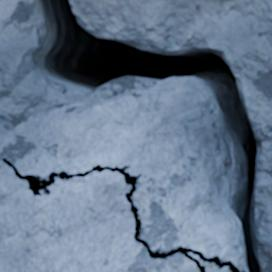brick: (0, 78, 246, 270), (0, 160, 198, 271), (200, 260, 229, 271)
crack: (0, 0, 269, 271)
